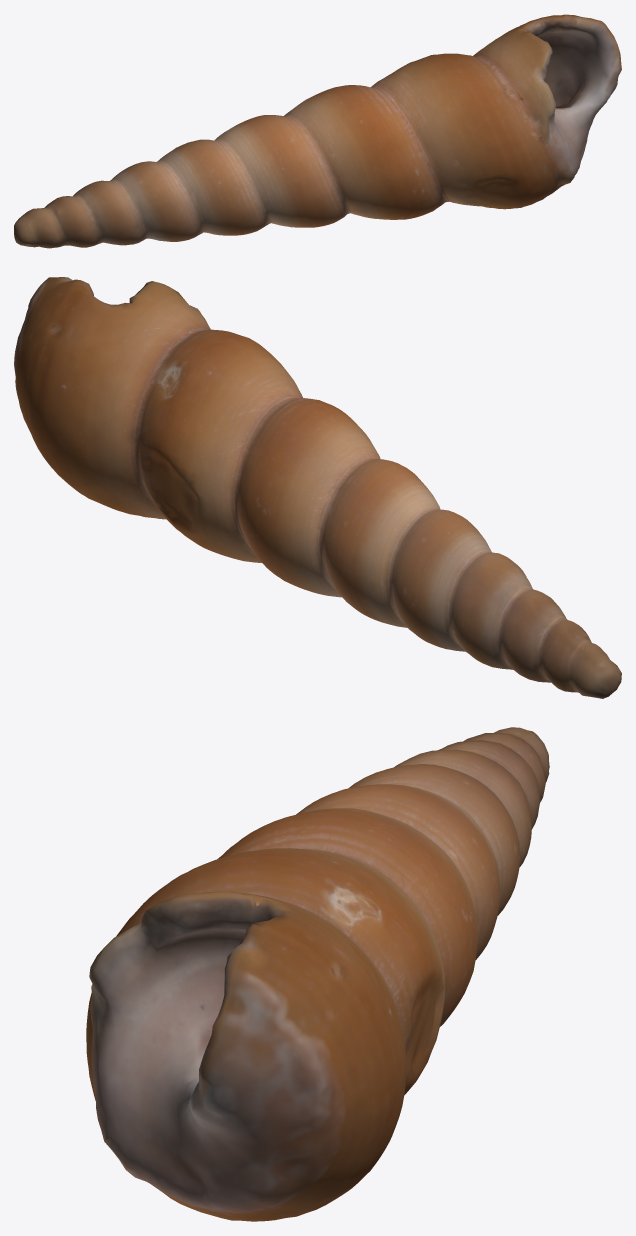
File: shell5.obj
3 renders of one model, top to bottom at view 1: azimuth 30°, elevation 25°; view 2: azimuth 150°, elevation 25°; view 3: azimuth 270°, elevation 25°, orthographic. The views are drawn at different scales.
Visible parts, largest first — view 1: Obj3d66_1597506_21_734; view 2: Obj3d66_1597506_21_734; view 3: Obj3d66_1597506_21_734.
Boxes of the visible parts, bbox=[...] form: Obj3d66_1597506_21_734: bbox=[14, 14, 621, 248]; Obj3d66_1597506_21_734: bbox=[14, 277, 621, 698]; Obj3d66_1597506_21_734: bbox=[86, 727, 549, 1221].
Size of the model in its own units: 43.63 by 13.38 by 16.47.
Materials: 1 (1 with a texture image).
